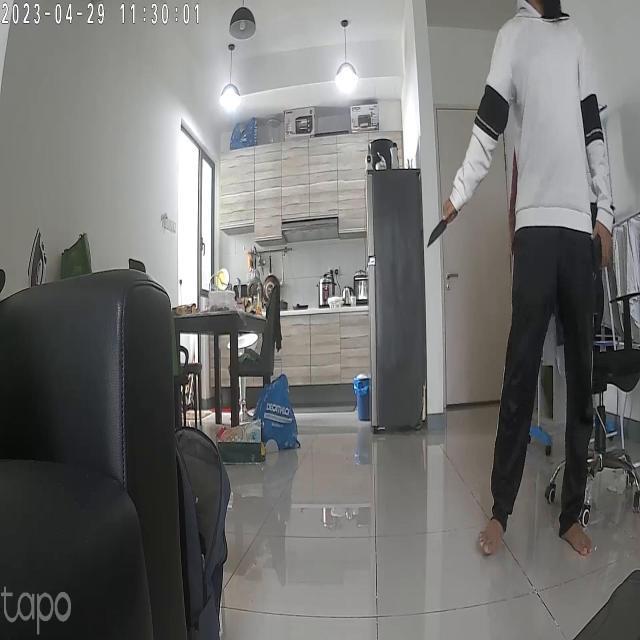Knife: (418, 208, 465, 264)
